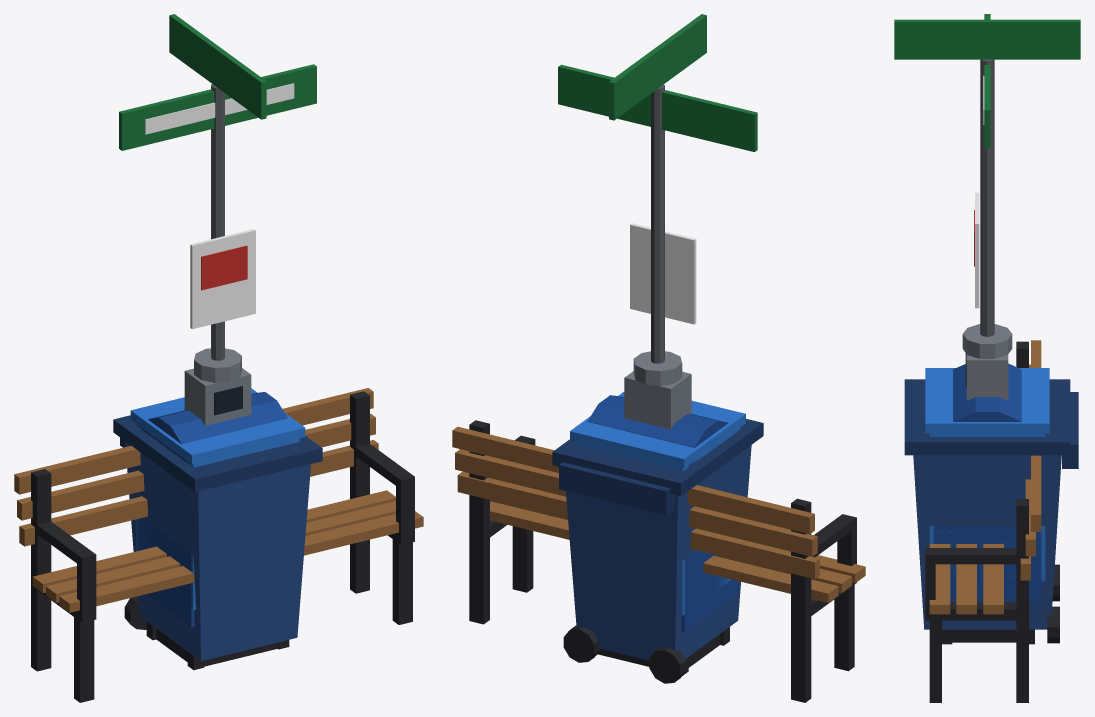
File: props.glb
The picture shows the model from 3 angles, left to right: view 1: azimuth 30°, elevation 25°; view 2: azimuth 150°, elevation 25°; view 3: azimuth 270°, elevation 25°; orthographic projection.
Parts seen in each view (by area): view 1: Bench, TrashCan, SignPole, NewsBoxBlue, Mailbox, Meter; view 2: Bench, TrashCan, SignPole, Mailbox, NewsBoxBlue, Meter; view 3: TrashCan, SignPole, Bench, NewsBoxBlue, Mailbox, Meter.
Boxes of the visible parts, x1=… form: Bench: x1=14, y1=388, x2=423, y2=702; TrashCan: x1=113, y1=415, x2=322, y2=660; SignPole: x1=119, y1=14, x2=316, y2=360; NewsBoxBlue: x1=130, y1=388, x2=305, y2=665; Mailbox: x1=138, y1=392, x2=289, y2=670; Meter: x1=184, y1=348, x2=251, y2=425; Bench: x1=452, y1=420, x2=865, y2=702; TrashCan: x1=552, y1=419, x2=763, y2=683; SignPole: x1=558, y1=14, x2=757, y2=363; Mailbox: x1=587, y1=395, x2=738, y2=675; NewsBoxBlue: x1=570, y1=392, x2=745, y2=667; Meter: x1=624, y1=351, x2=691, y2=429; TrashCan: x1=904, y1=379, x2=1078, y2=643; SignPole: x1=894, y1=14, x2=1080, y2=336; Bench: x1=925, y1=340, x2=1041, y2=702; NewsBoxBlue: x1=925, y1=368, x2=1049, y2=642; Mailbox: x1=933, y1=363, x2=1041, y2=644; Meter: x1=962, y1=324, x2=1012, y2=400.
Size of the model in its own units: 2 by 3.2 by 0.9.
